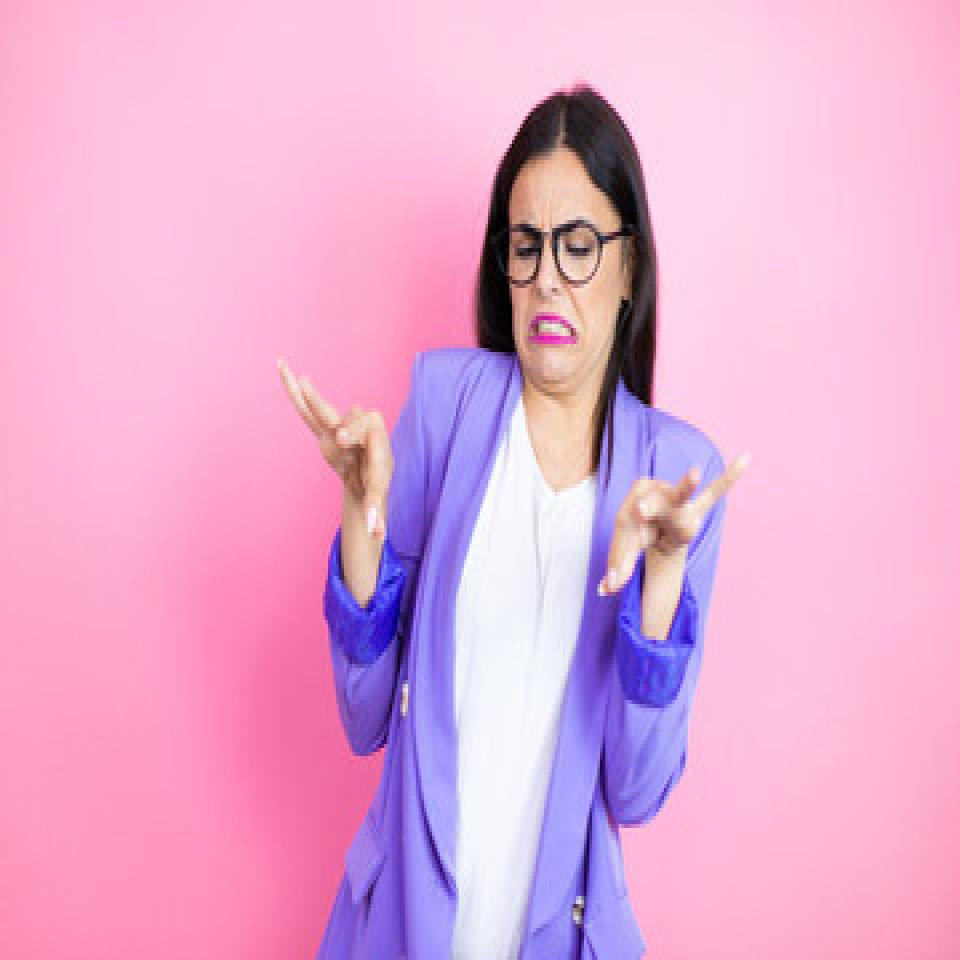Disgust: (503, 161, 642, 404)
